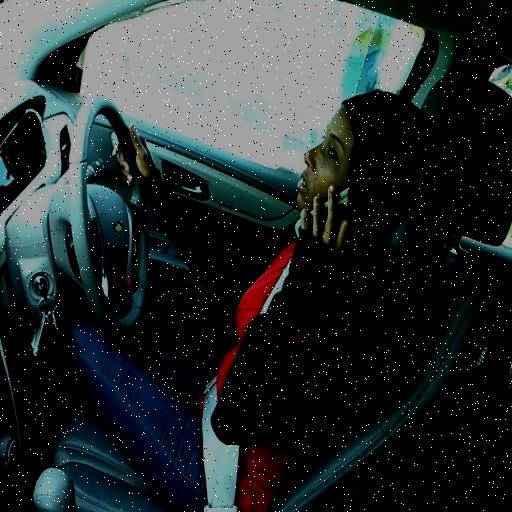talking_phone: (67, 134, 447, 452)
